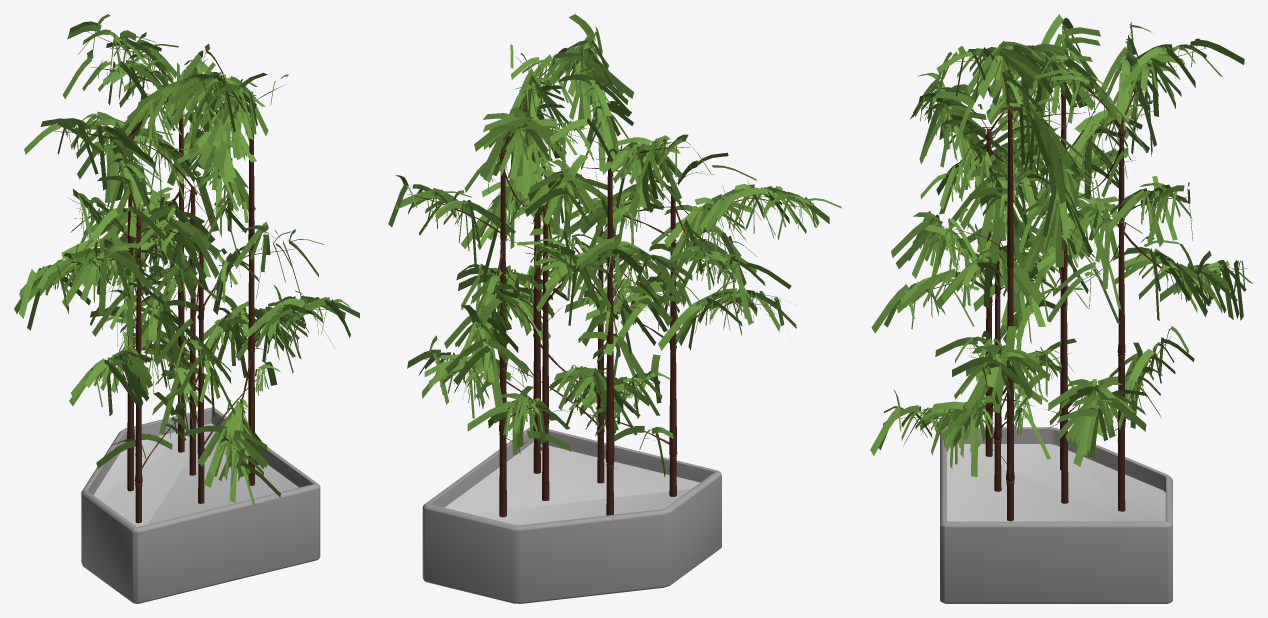
File: Bamboo.fbx
3 renders of one model, left to right at view 1: azimuth 30°, elevation 25°; view 2: azimuth 150°, elevation 25°; view 3: azimuth 270°, elevation 25°, orthographic. The views are drawn at different scales.
Parts seen in each view (by area): view 1: plant.bamboo.002; view 2: plant.bamboo.002; view 3: plant.bamboo.002.
Boxes of the visible parts, left/top/right/bottom form: plant.bamboo.002: left=14, top=14, right=359, bottom=603; plant.bamboo.002: left=388, top=14, right=841, bottom=603; plant.bamboo.002: left=870, top=14, right=1252, bottom=603.
Bounding box in the file's own units: 2.3 × 3.1 × 2.03.
